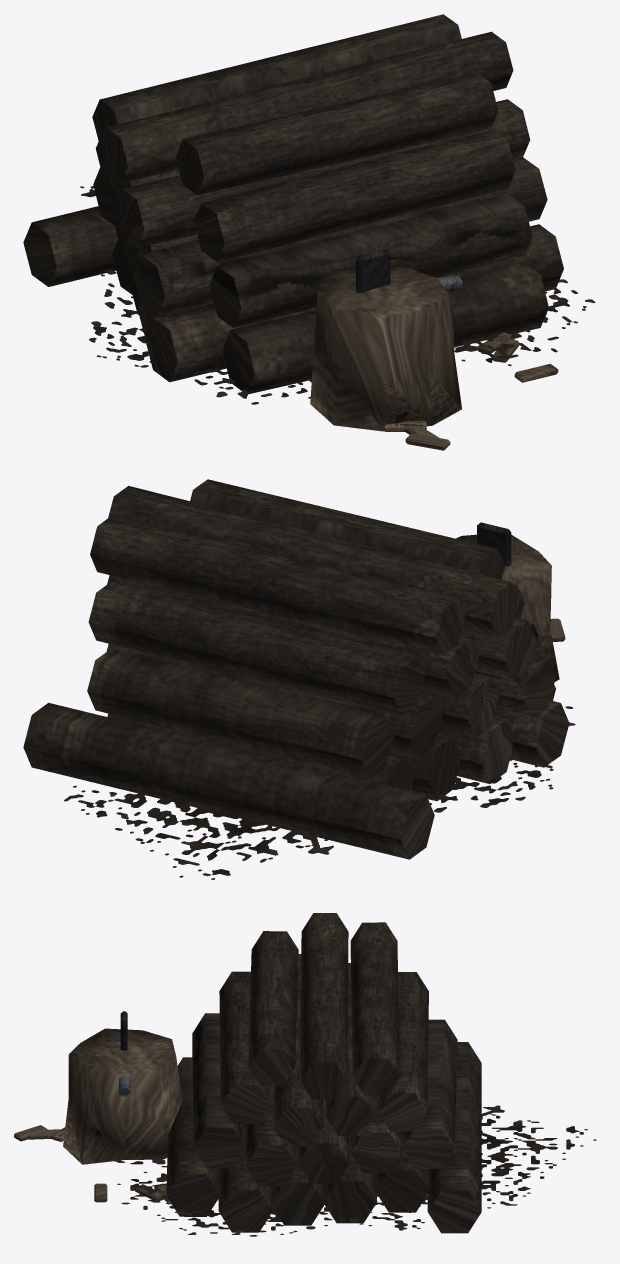
File: woodpile.glb
3 renders of one model, top to bottom at view 1: azimuth 30°, elevation 25°; view 2: azimuth 150°, elevation 25°; view 3: azimuth 270°, elevation 25°, orthographic. The views are drawn at different scales.
Visible parts, largest first — view 1: woodpile; view 2: woodpile; view 3: woodpile.
Boxes of the visible parts, x1,y1,x2,y2 form: woodpile: [23, 14, 595, 450]; woodpile: [23, 479, 575, 879]; woodpile: [14, 913, 596, 1236].
Bounding box in the file's own units: 1.48 × 0.6428 × 1.97.
2 materials, 2 textured.
